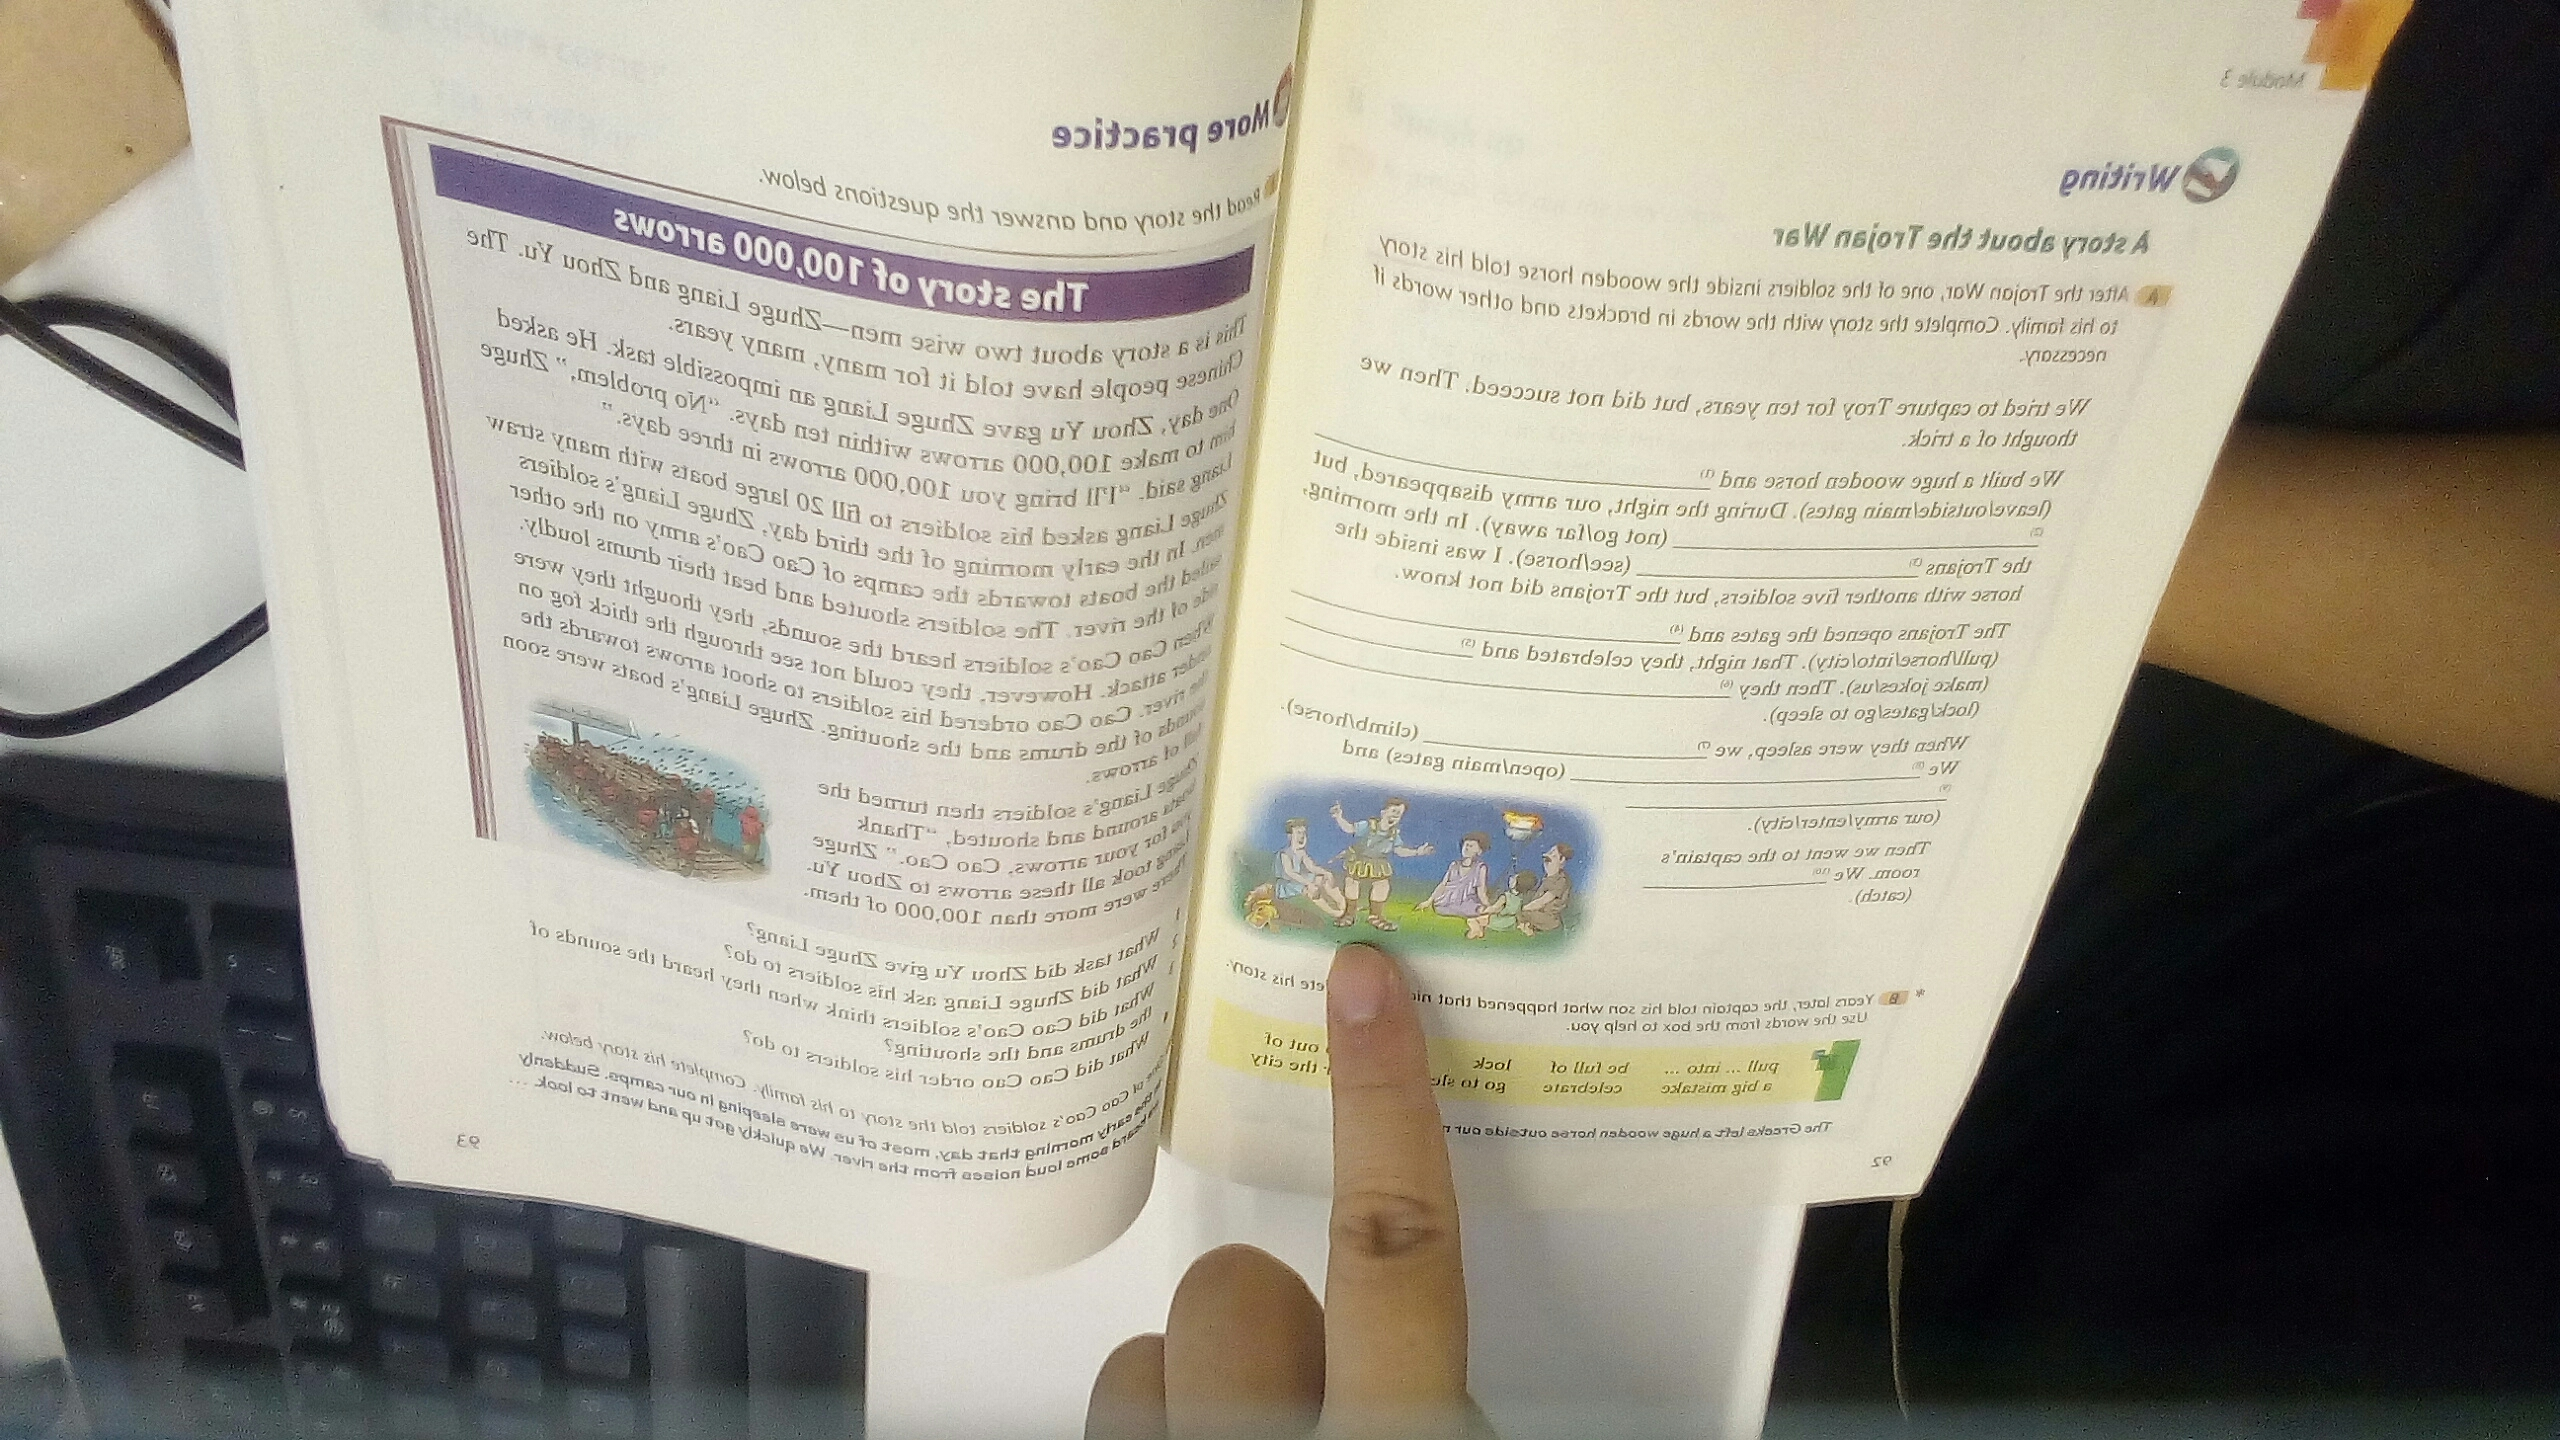1: (11, 11, 100, 100)
2: (49, 49, 100, 100)
fingernail: (1320, 934, 1419, 1043)
hand: (1073, 927, 1491, 1433)
